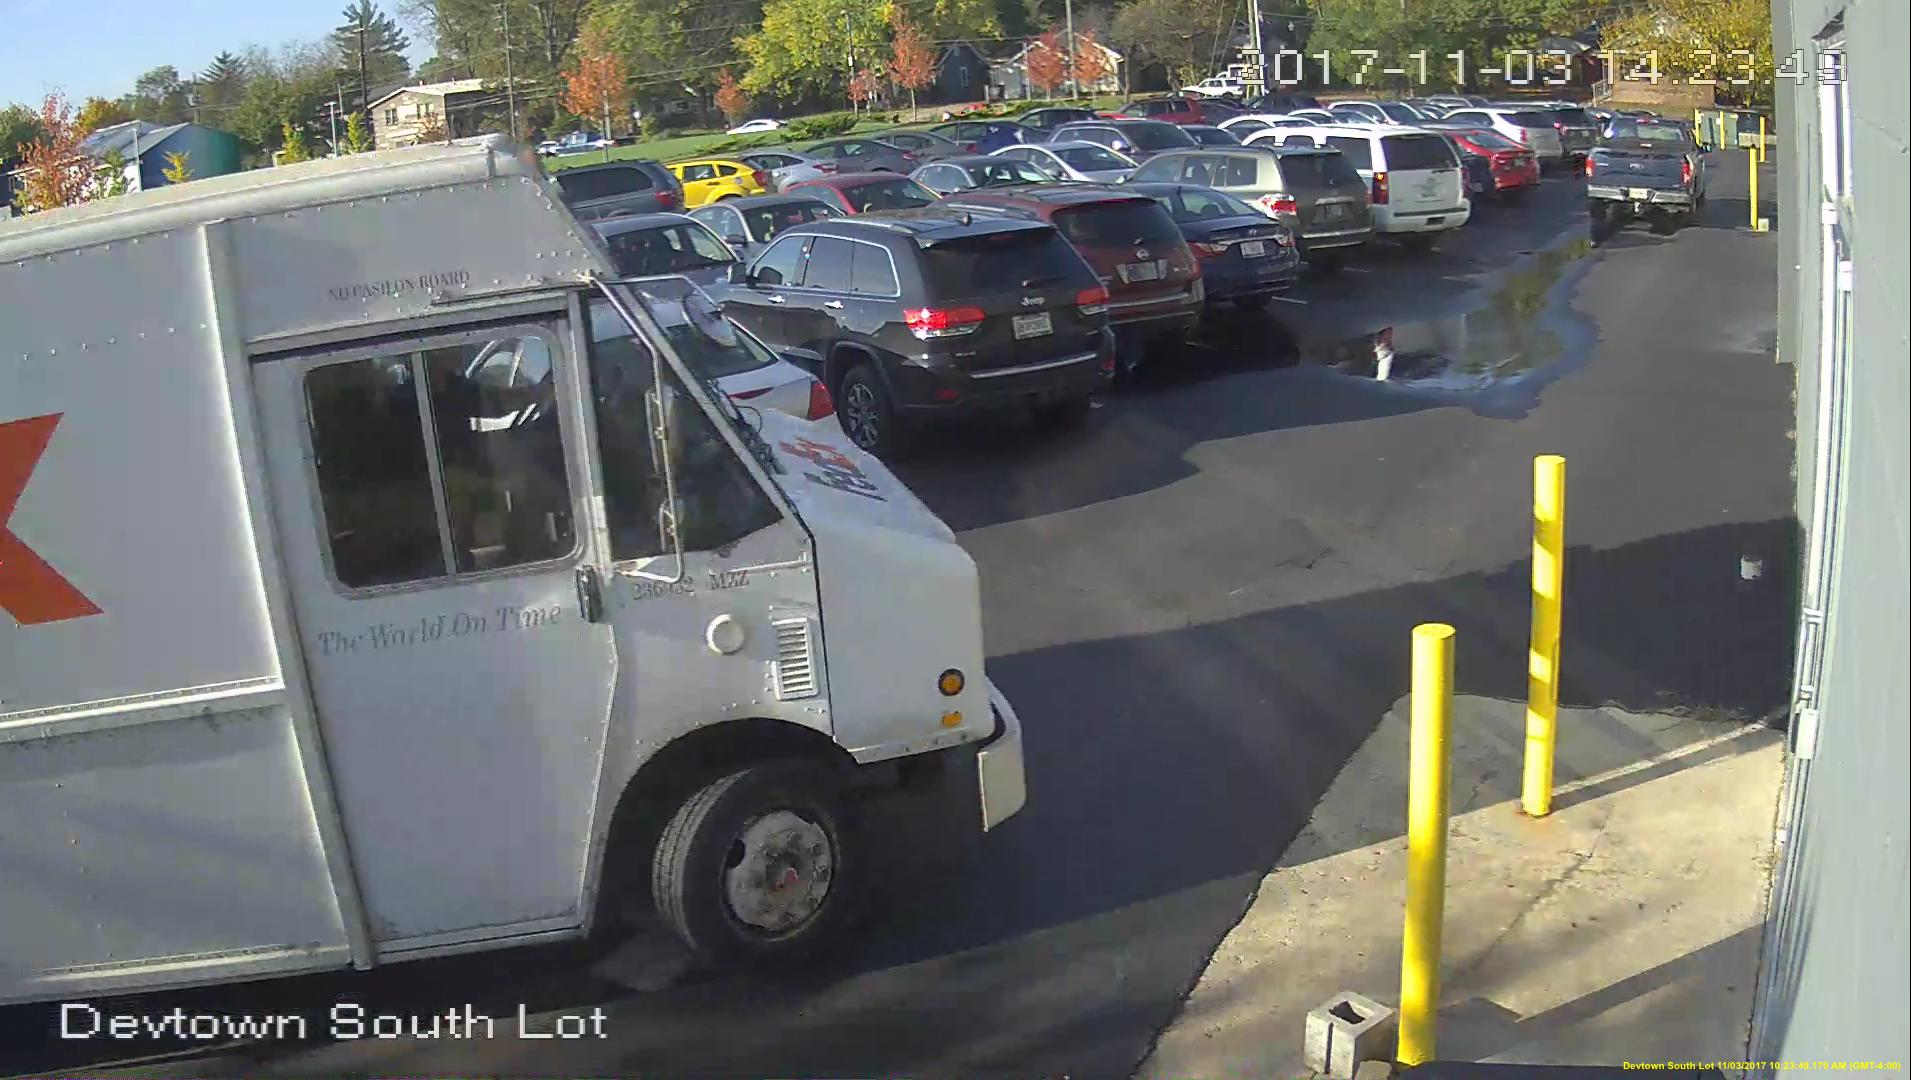fedex_truck: (7, 130, 1034, 1007)
